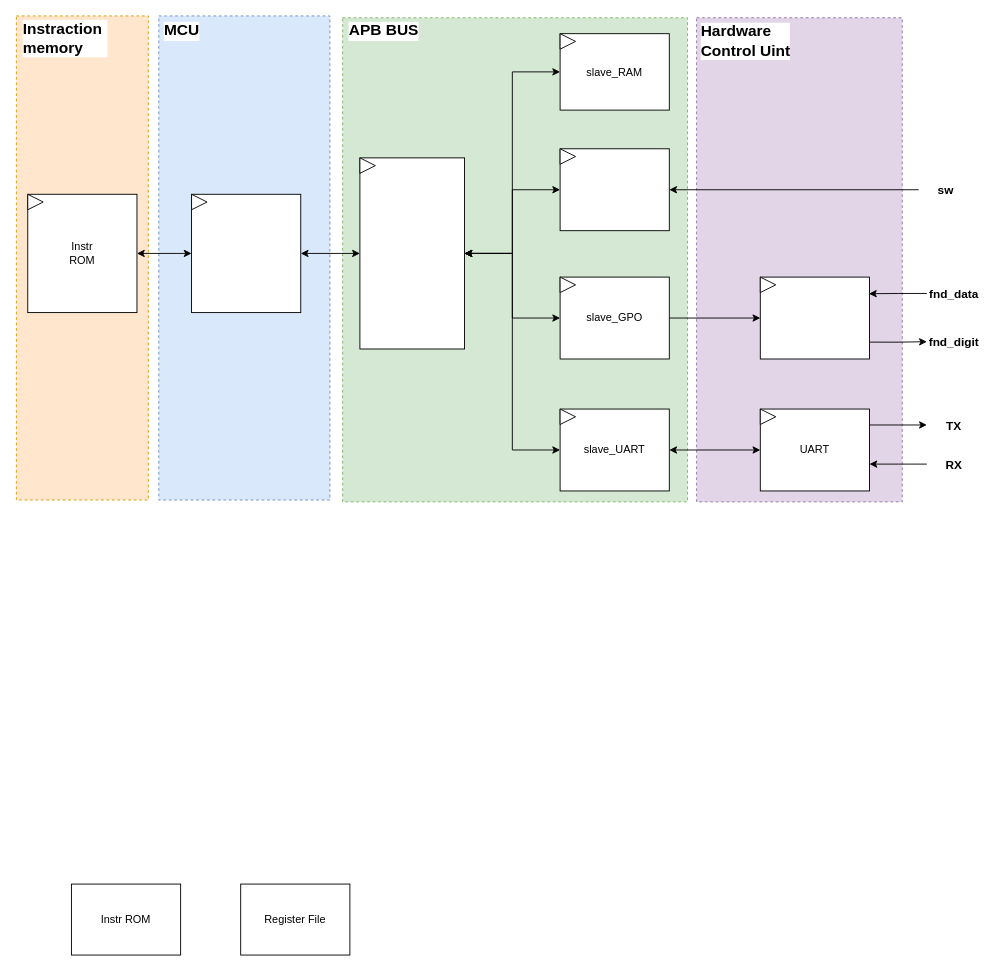
Image size: 996x971. Some labels were removed from this diagram. Each missing label, with the box of its shape:
APB master: (359, 157, 465, 349)
CPU: (191, 193, 301, 313)
FND_controler: (759, 276, 870, 359)
slave_GPIO: (559, 148, 669, 231)
